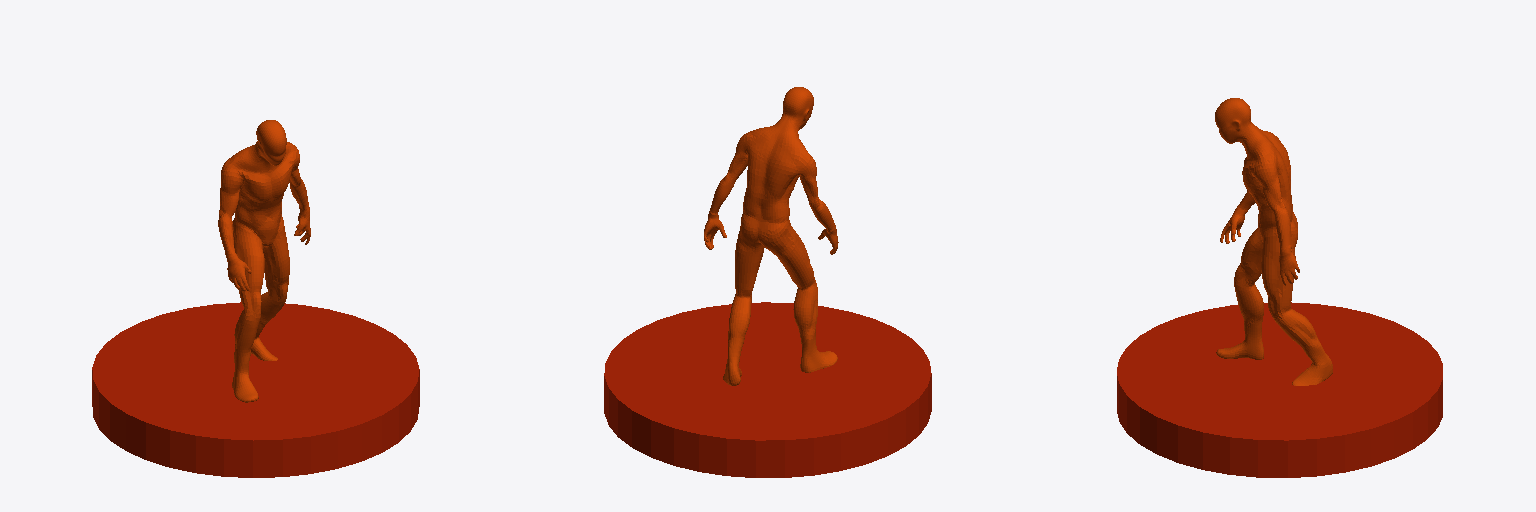
Rendered from joker.obj.
The picture shows the model from 3 angles: view 1: azimuth 30°, elevation 25°; view 2: azimuth 150°, elevation 25°; view 3: azimuth 270°, elevation 25°; orthographic projection.
Parts seen in each view (by area): view 1: Cylinder_Cylinder.001, lowman_shoes; view 2: Cylinder_Cylinder.001, lowman_shoes; view 3: Cylinder_Cylinder.001, lowman_shoes.
Boxes of the visible parts, box(x1,y1,x2,y2) form: Cylinder_Cylinder.001: box(92, 302, 419, 477); lowman_shoes: box(218, 120, 310, 402); Cylinder_Cylinder.001: box(604, 302, 931, 477); lowman_shoes: box(704, 87, 838, 385); Cylinder_Cylinder.001: box(1117, 302, 1442, 477); lowman_shoes: box(1215, 98, 1332, 385).
Size of the model in its own units: 6.09 by 6.29 by 6.08.